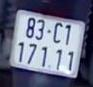1: (15, 40, 24, 63), (65, 23, 73, 47), (55, 47, 62, 71), (42, 46, 48, 72), (67, 50, 74, 72)
3: (36, 18, 46, 42)
7: (27, 41, 38, 67)
8: (27, 15, 35, 41)
C: (51, 21, 61, 44)
